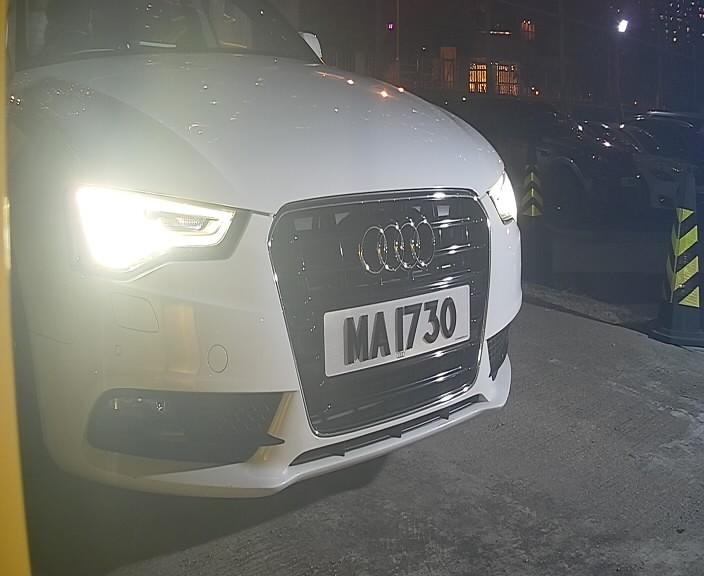Car: (1, 21, 566, 502)
License Plate: (315, 271, 480, 386)
